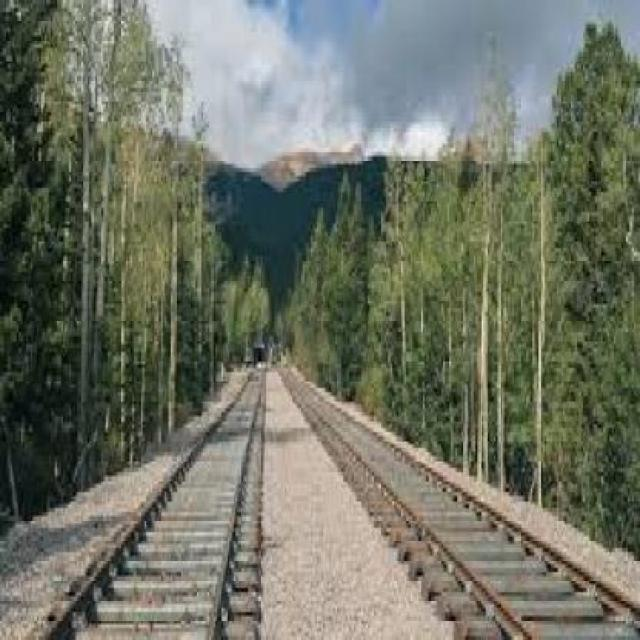rail: (0, 345, 637, 640)
